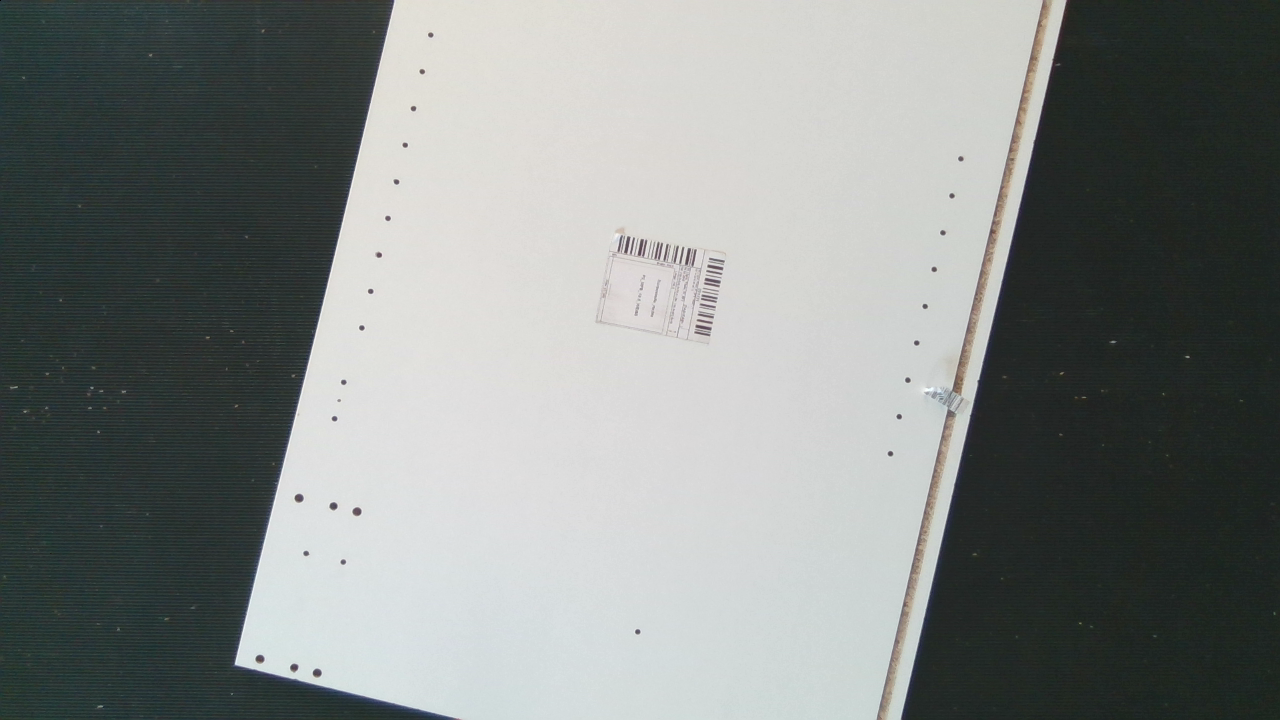barcode: (590, 226, 734, 355)
